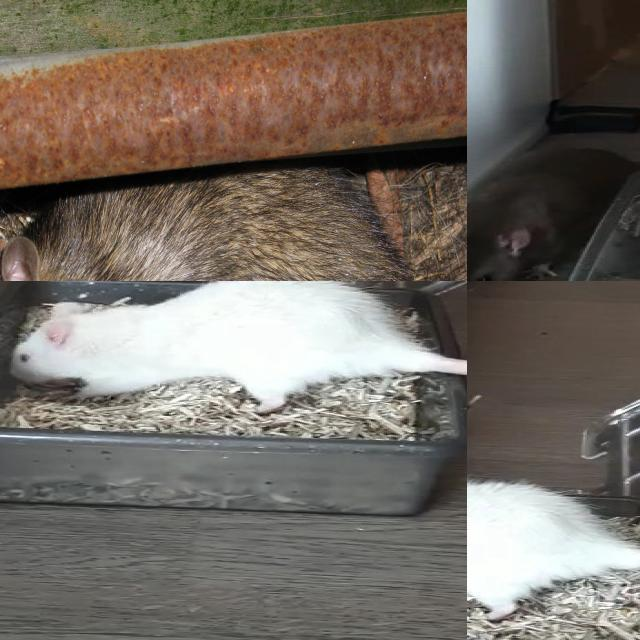rat: (2, 281, 408, 411), (0, 163, 411, 281), (467, 144, 633, 281), (467, 481, 610, 616)
